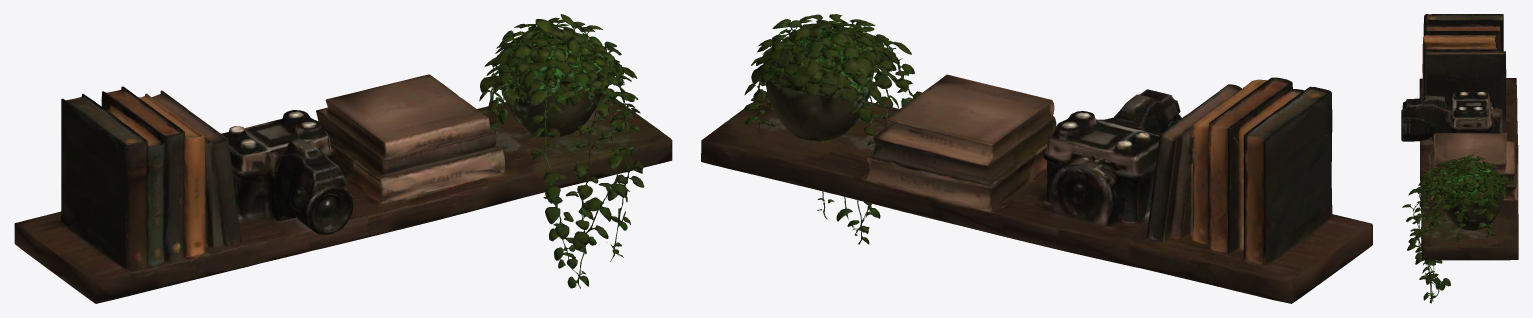
The model's file is wall-shelf.glb.
3 renders of one model, left to right at view 1: azimuth 30°, elevation 25°; view 2: azimuth 150°, elevation 25°; view 3: azimuth 270°, elevation 25°, orthographic. The views are drawn at different scales.
Bounding box in the file's own units: 1.9 × 0.8094 × 0.5549.
Materials: 1 (1 with a texture image).
